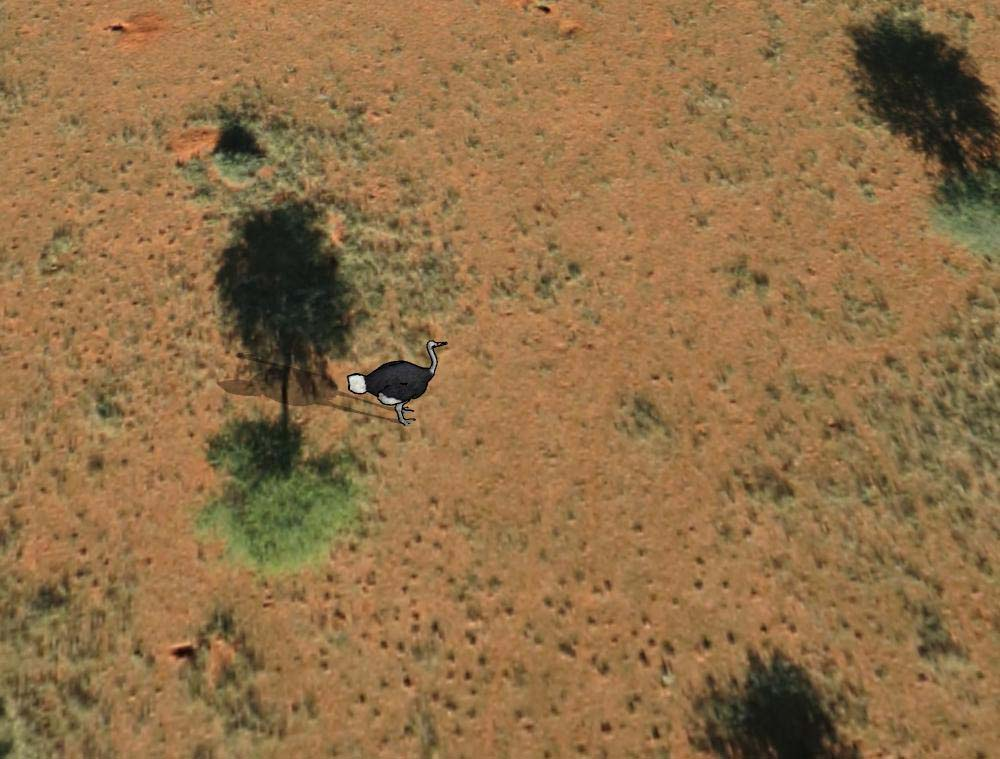springbok: (342, 341, 457, 429)
